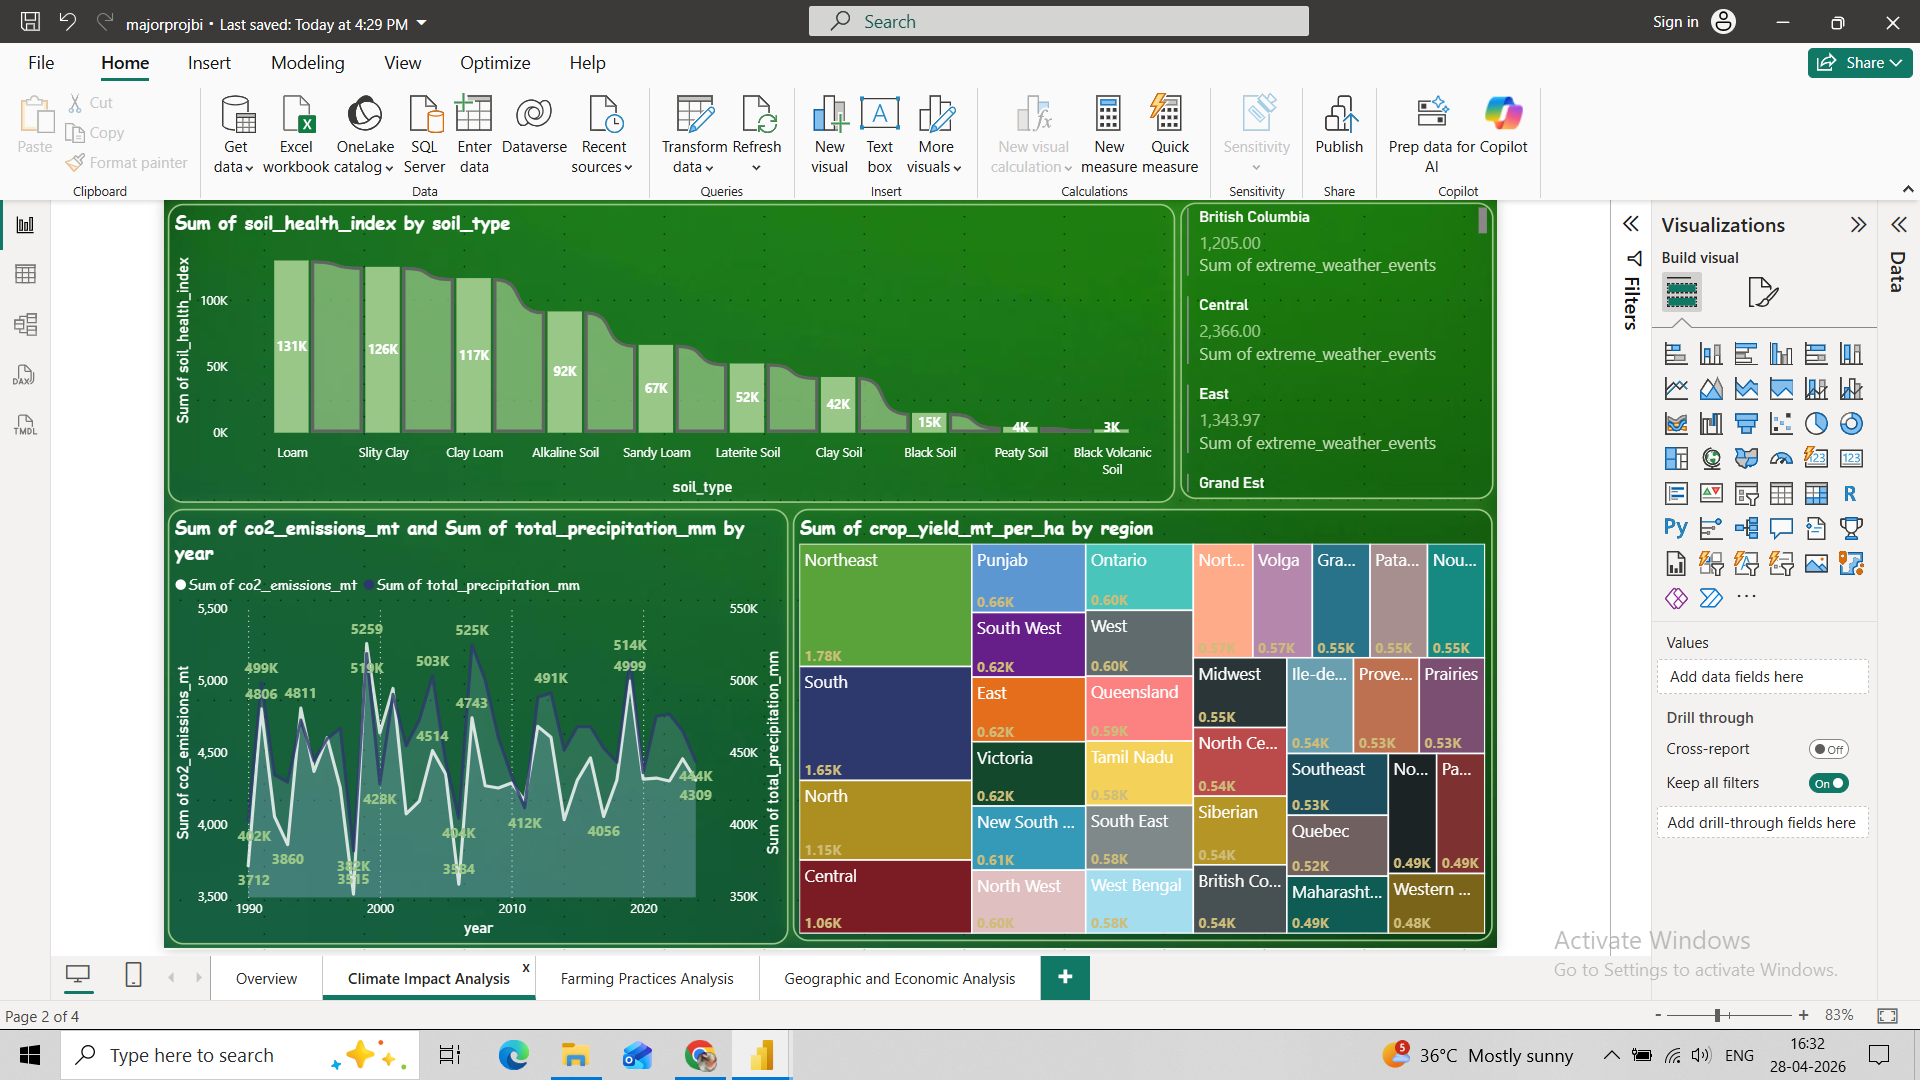

The page's visual inventory and layout, read from the dashboard file:
{"tool":"powerbi","page":{"name":"Climate Impact Analysis","canvas":[1280,720],"ordinal":1},"visuals":[{"type":"areaChart","fields":{"Category":["filtered_agrofile.year"],"Y":["Sum(filtered_agrofile.co2_emissions_mt)"],"Y2":["Sum(filtered_agrofile.total_precipitation_mm)"]},"box":[3,296,596,418],"z":0},{"type":"multiRowCard","fields":{"Values":["filtered_agrofile.region","Sum(filtered_agrofile.extreme_weather_events)"]},"box":[975,2.7,301,285],"z":1000},{"type":"ribbonChart","fields":{"Category":["filtered_agrofile.soil_type"],"Y":["Sum(filtered_agrofile.soil_health_index)"]},"box":[4,3,967,287],"z":2000},{"type":"treemap","fields":{"Group":["filtered_agrofile.region"],"Values":["Sum(filtered_agrofile.crop_yield_mt_per_ha)"]},"box":[604,296,672,415],"z":3000}]}

Visuals, with their boxes on the page's 1280x720 design canvas (x1, y1, x2, y2). These are canvas units, not pixel positions in the 1920x1080 screenshot, which may show the page scaled, cropped or inside an application window:
areaChart - filtered_agrofile.year x Sum(filtered_agrofile.co2_emissions_mt): locate(3, 296, 599, 714)
multiRowCard - filtered_agrofile.region x Sum(filtered_agrofile.extreme_weather_events): locate(975, 3, 1276, 288)
ribbonChart - filtered_agrofile.soil_type x Sum(filtered_agrofile.soil_health_index): locate(4, 3, 971, 290)
treemap - filtered_agrofile.region x Sum(filtered_agrofile.crop_yield_mt_per_ha): locate(604, 296, 1276, 711)
